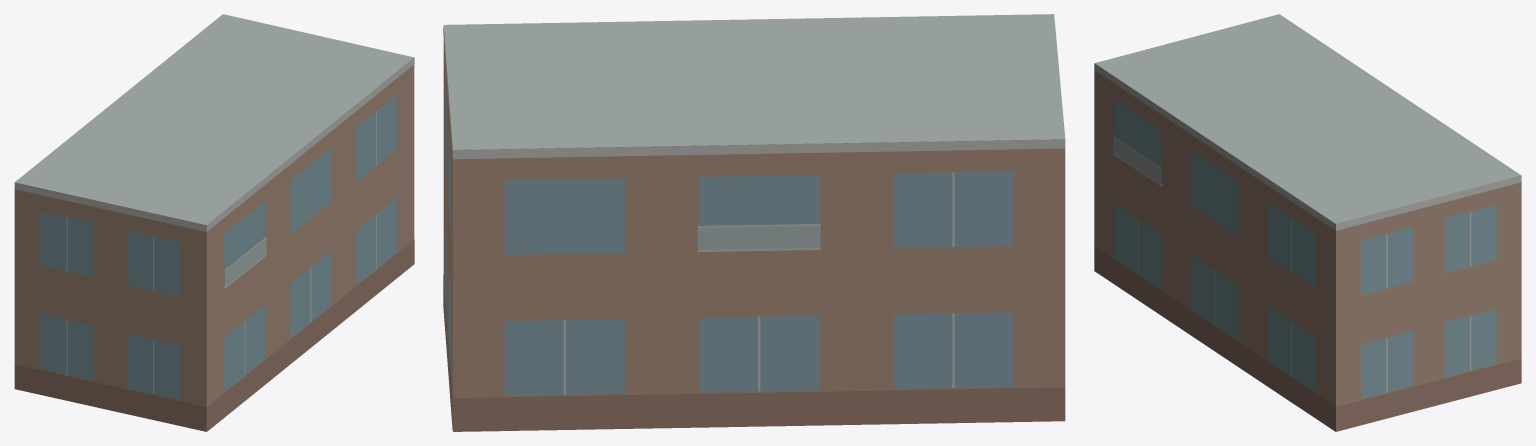
The model's file is survey-upis-32623868.glb.
3 renders of one model, left to right at view 1: azimuth 30°, elevation 25°; view 2: azimuth 150°, elevation 25°; view 3: azimuth 270°, elevation 25°, orthographic. The views are drawn at different scales.
Parts seen in each view (by area): view 1: survey-upis-32623868.tmp; view 2: survey-upis-32623868.tmp; view 3: survey-upis-32623868.tmp.
Part boxes in pixels (left/top/right/bottom): survey-upis-32623868.tmp: left=14, top=14, right=414, bottom=431; survey-upis-32623868.tmp: left=443, top=14, right=1065, bottom=431; survey-upis-32623868.tmp: left=1094, top=14, right=1521, bottom=431.
Bounding box in the file's own units: 16.04 × 7.4 × 13.79.
